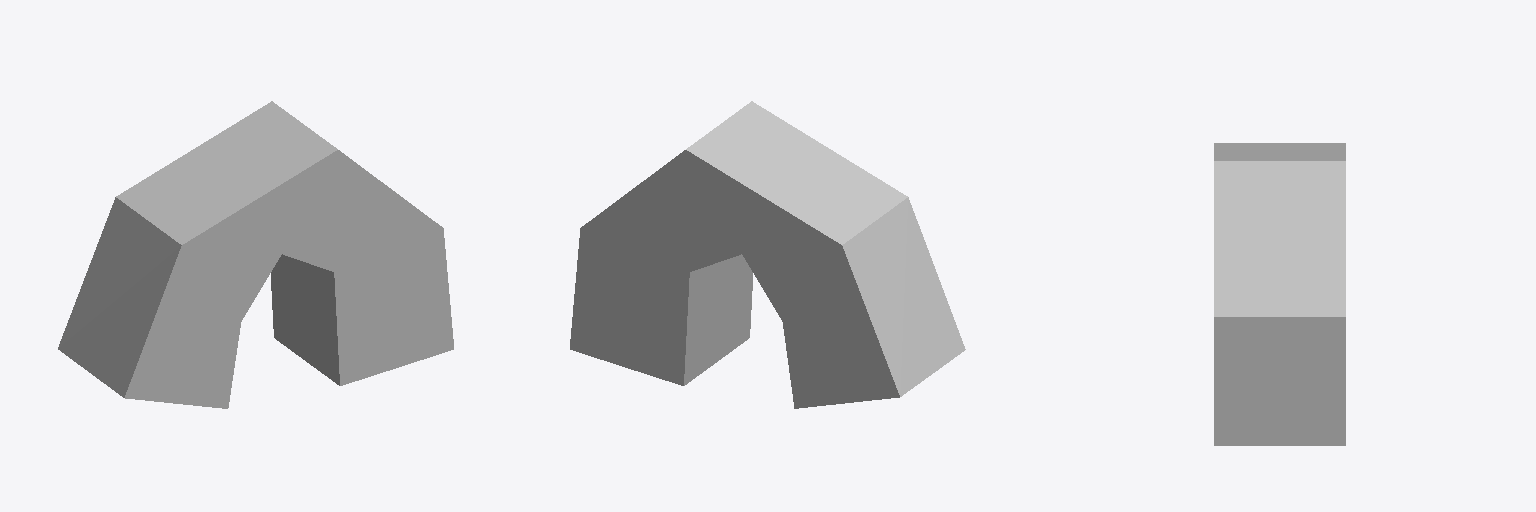
Rendered from Animation_000062.obj.
3 views of the same model, side by side, from view 1: azimuth 30°, elevation 25°; view 2: azimuth 150°, elevation 25°; view 3: azimuth 270°, elevation 25° (orthographic).
Parts seen in each view (by area): view 1: Cube; view 2: Cube; view 3: Cube.
Part boxes in pixels (bbox=[...]): Cube: bbox=[58, 101, 453, 408]; Cube: bbox=[570, 101, 965, 408]; Cube: bbox=[1214, 143, 1345, 445].
Size of the model in its own units: 3.84 by 2.63 by 1.33.